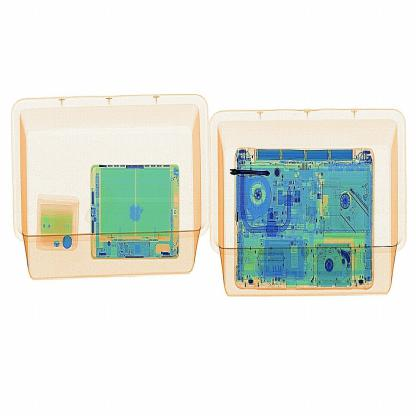knife: (228, 165, 271, 181)
